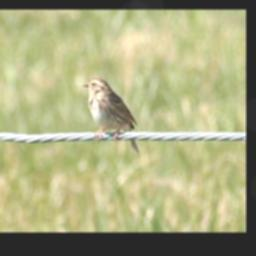Sparrow: (79, 76, 140, 155)
